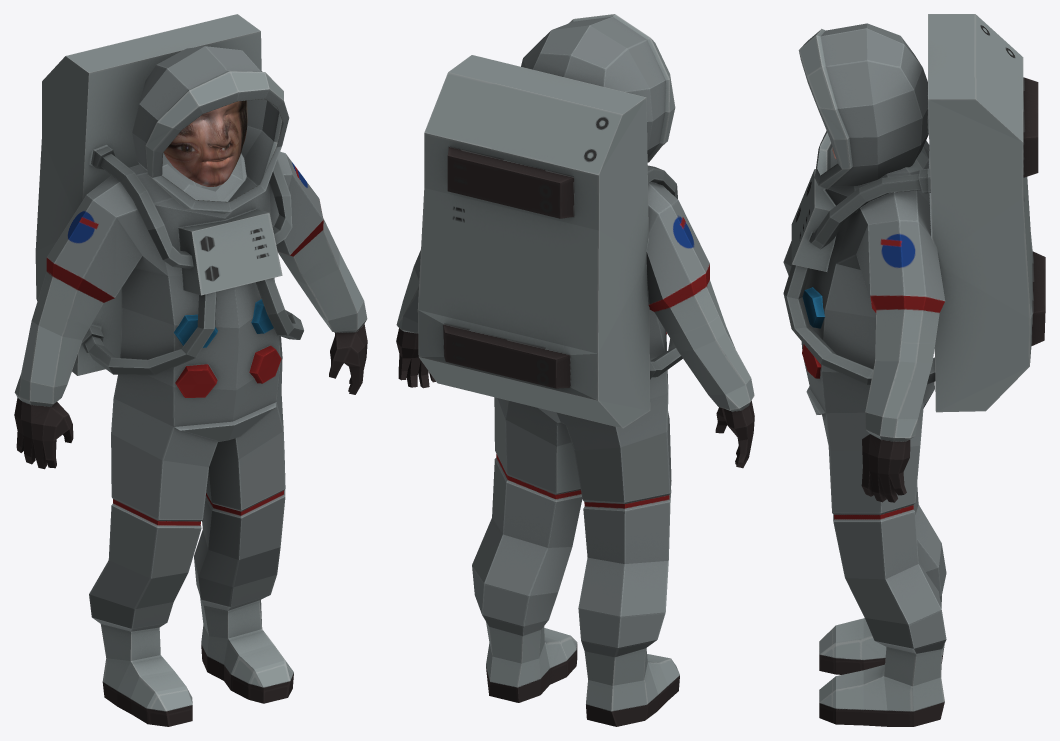
The model's file is astronaut.gltf.
3 views of the same model, side by side, from view 1: azimuth 30°, elevation 25°; view 2: azimuth 150°, elevation 25°; view 3: azimuth 270°, elevation 25° (orthographic).
Parts seen in each view (by area): view 1: node-0.001, node-0; view 2: node-0.001; view 3: node-0.001.
Part boxes in pixels (bbox=[...]): node-0.001: bbox=[14, 14, 367, 726]; node-0: bbox=[163, 100, 247, 186]; node-0.001: bbox=[396, 14, 754, 726]; node-0.001: bbox=[783, 14, 1045, 726].
Bounding box in the file's own units: 2.24 × 4.02 × 1.45.
